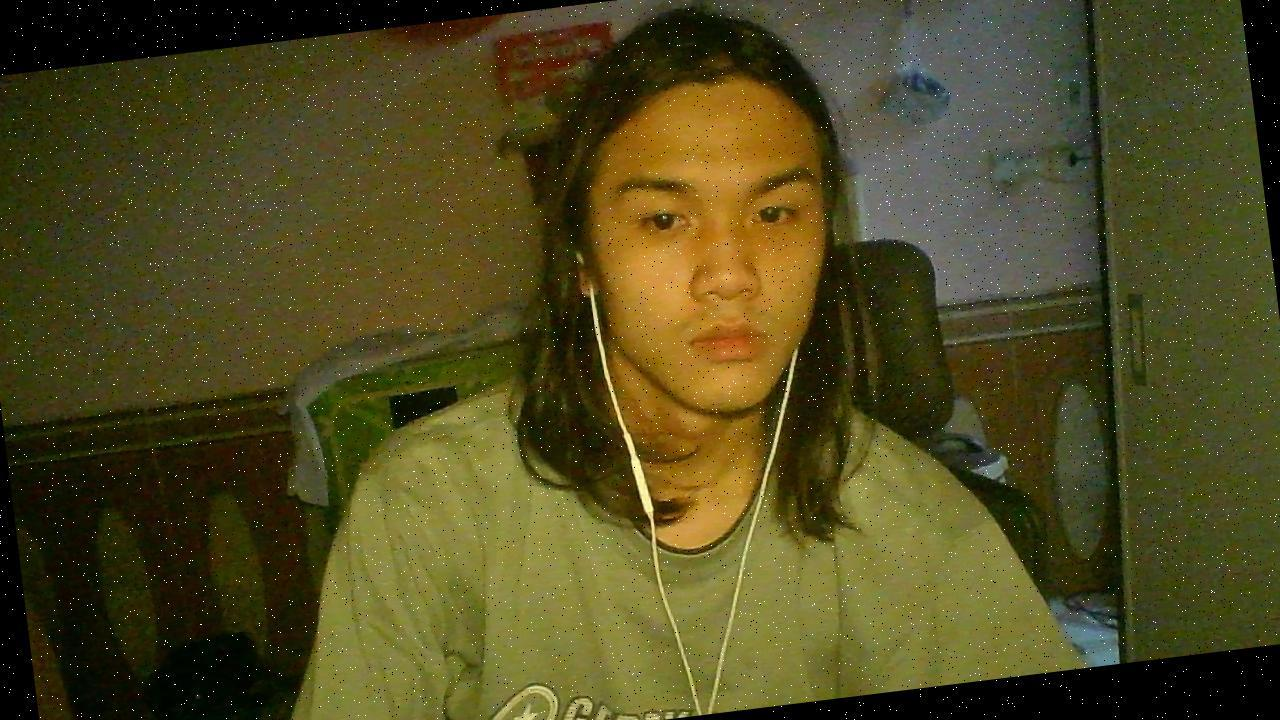Awake: (509, 10, 882, 488)
